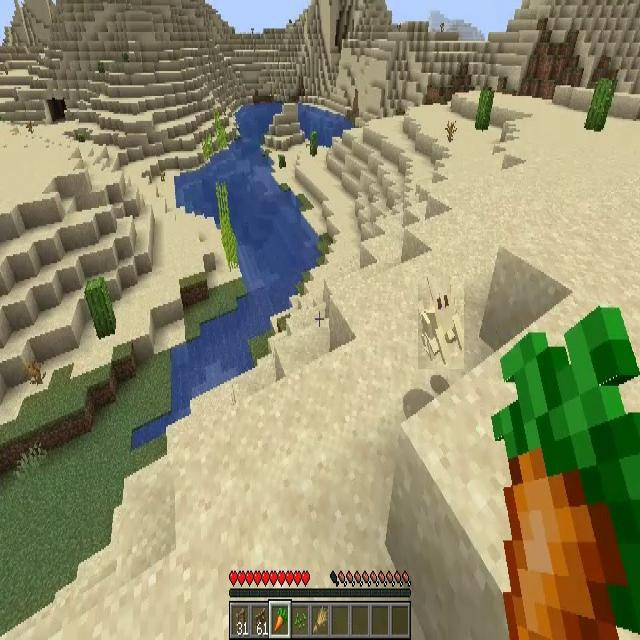rabbit: (418, 276, 464, 369)
